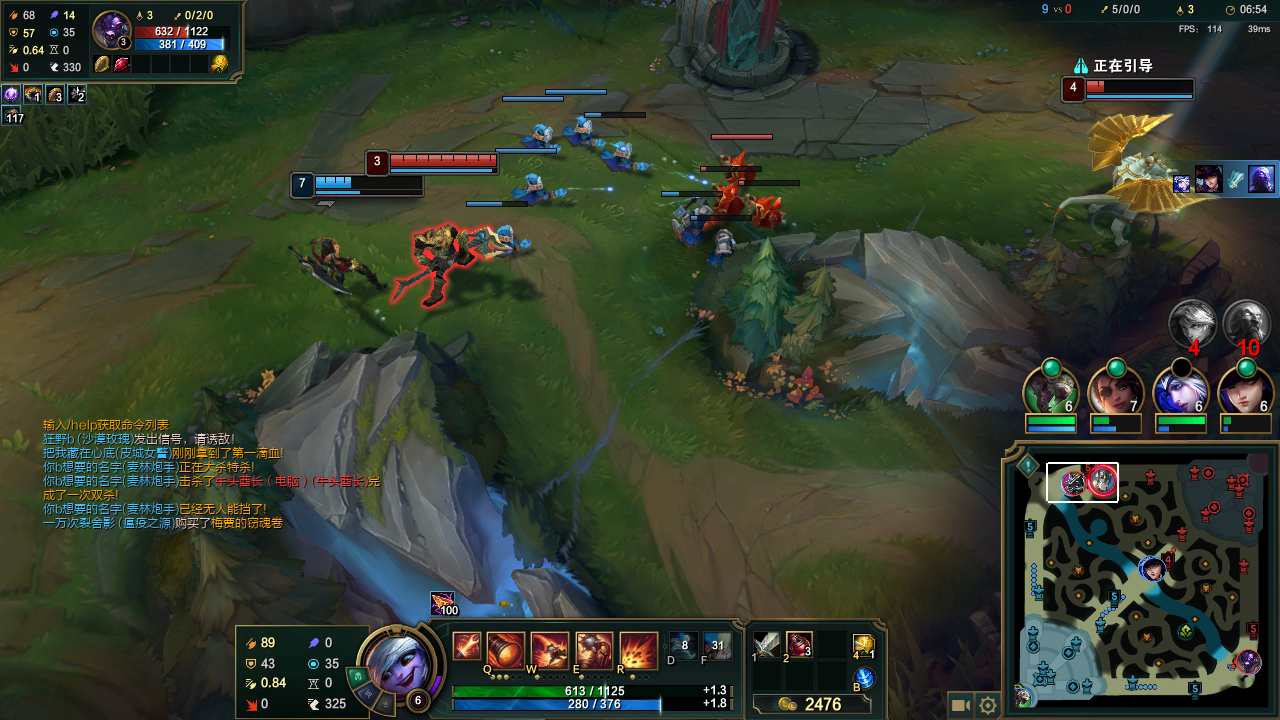DFXB: (746, 196, 793, 246), (718, 151, 765, 188), (702, 182, 744, 217)
DFYX: (392, 150, 476, 170), (1083, 83, 1145, 102)
WFXB: (512, 172, 579, 212), (594, 140, 652, 184), (510, 121, 572, 160), (561, 110, 610, 159), (700, 225, 752, 268), (485, 218, 539, 257), (669, 201, 709, 251)
Yita: (1187, 673, 1204, 699)
